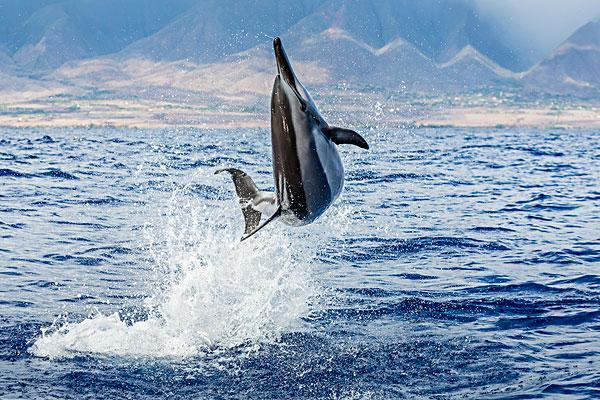fish: (213, 32, 370, 242)
